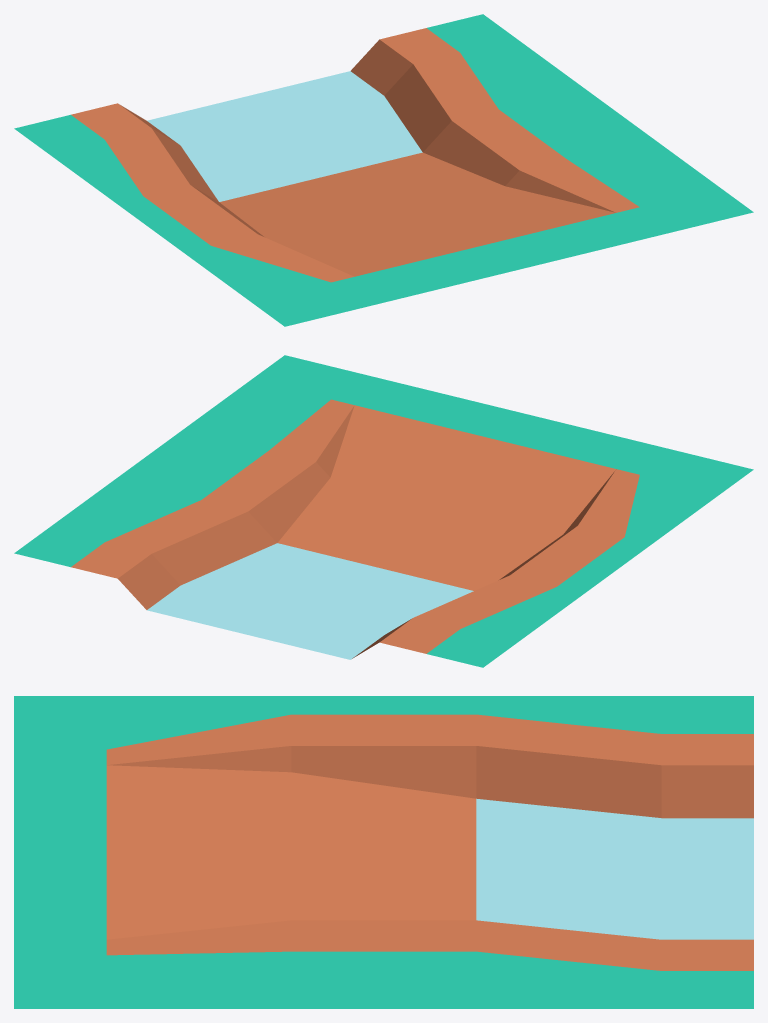
File: ground_riverEnd.dae
3 views of the same model, one above another, from view 1: azimuth 30°, elevation 25°; view 2: azimuth 150°, elevation 25°; view 3: azimuth 270°, elevation 25° (orthographic). The views are drawn at different scales.
Parts seen in each view (by area): view 1: ground_riverEnd; view 2: ground_riverEnd; view 3: ground_riverEnd.
Boxes of the visible parts, box(x1,y1,x2,y2) form: ground_riverEnd: box(14, 14, 753, 326); ground_riverEnd: box(14, 355, 753, 667); ground_riverEnd: box(14, 696, 753, 1008).
Bounding box in the file's own units: 1 × 0.05 × 1.
